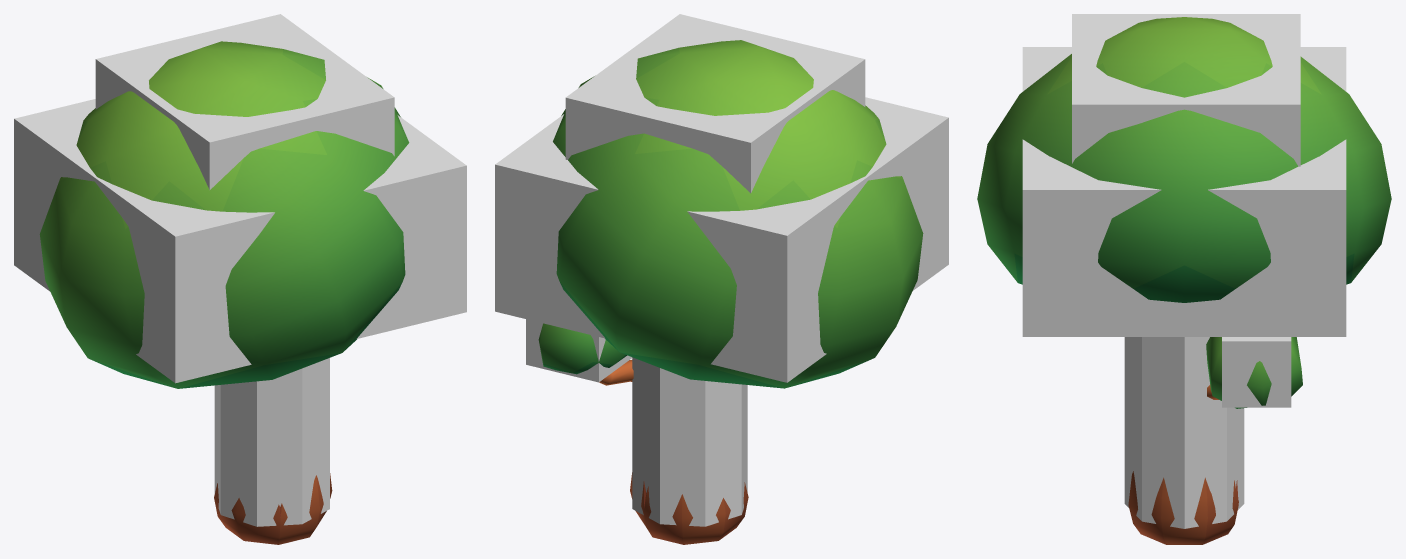
File: tree.glb
The picture shows the model from 3 angles, left to right: view 1: azimuth 30°, elevation 25°; view 2: azimuth 150°, elevation 25°; view 3: azimuth 270°, elevation 25°; orthographic projection.
Parts seen in each view (by area): view 1: Tree_A, COL_BOX_00, COL_BOX_01, COL_CYL_00; view 2: Tree_A, COL_BOX_00, COL_BOX_01, COL_CYL_00, COL_BOX_02; view 3: Tree_A, COL_BOX_00, COL_CYL_00, COL_BOX_01, COL_BOX_02.
Part boxes in pixels (<box>): Tree_A: <box>39,41,409,544</box>; COL_BOX_00: <box>14,99,466,383</box>; COL_BOX_01: <box>95,14,394,189</box>; COL_CYL_00: <box>214,358,329,526</box>; Tree_A: <box>538,40,923,544</box>; COL_BOX_00: <box>495,97,948,382</box>; COL_BOX_01: <box>565,14,865,193</box>; COL_CYL_00: <box>632,357,747,526</box>; COL_BOX_02: <box>526,319,632,382</box>; Tree_A: <box>977,17,1391,544</box>; COL_BOX_00: <box>1022,47,1346,336</box>; COL_CYL_00: <box>1124,337,1244,528</box>; COL_BOX_01: <box>1072,14,1300,166</box>; COL_BOX_02: <box>1222,337,1291,407</box>.
Bounding box in the file's own units: 3.18 × 4.16 × 3.25.
Materials: 1 (1 with a texture image).
